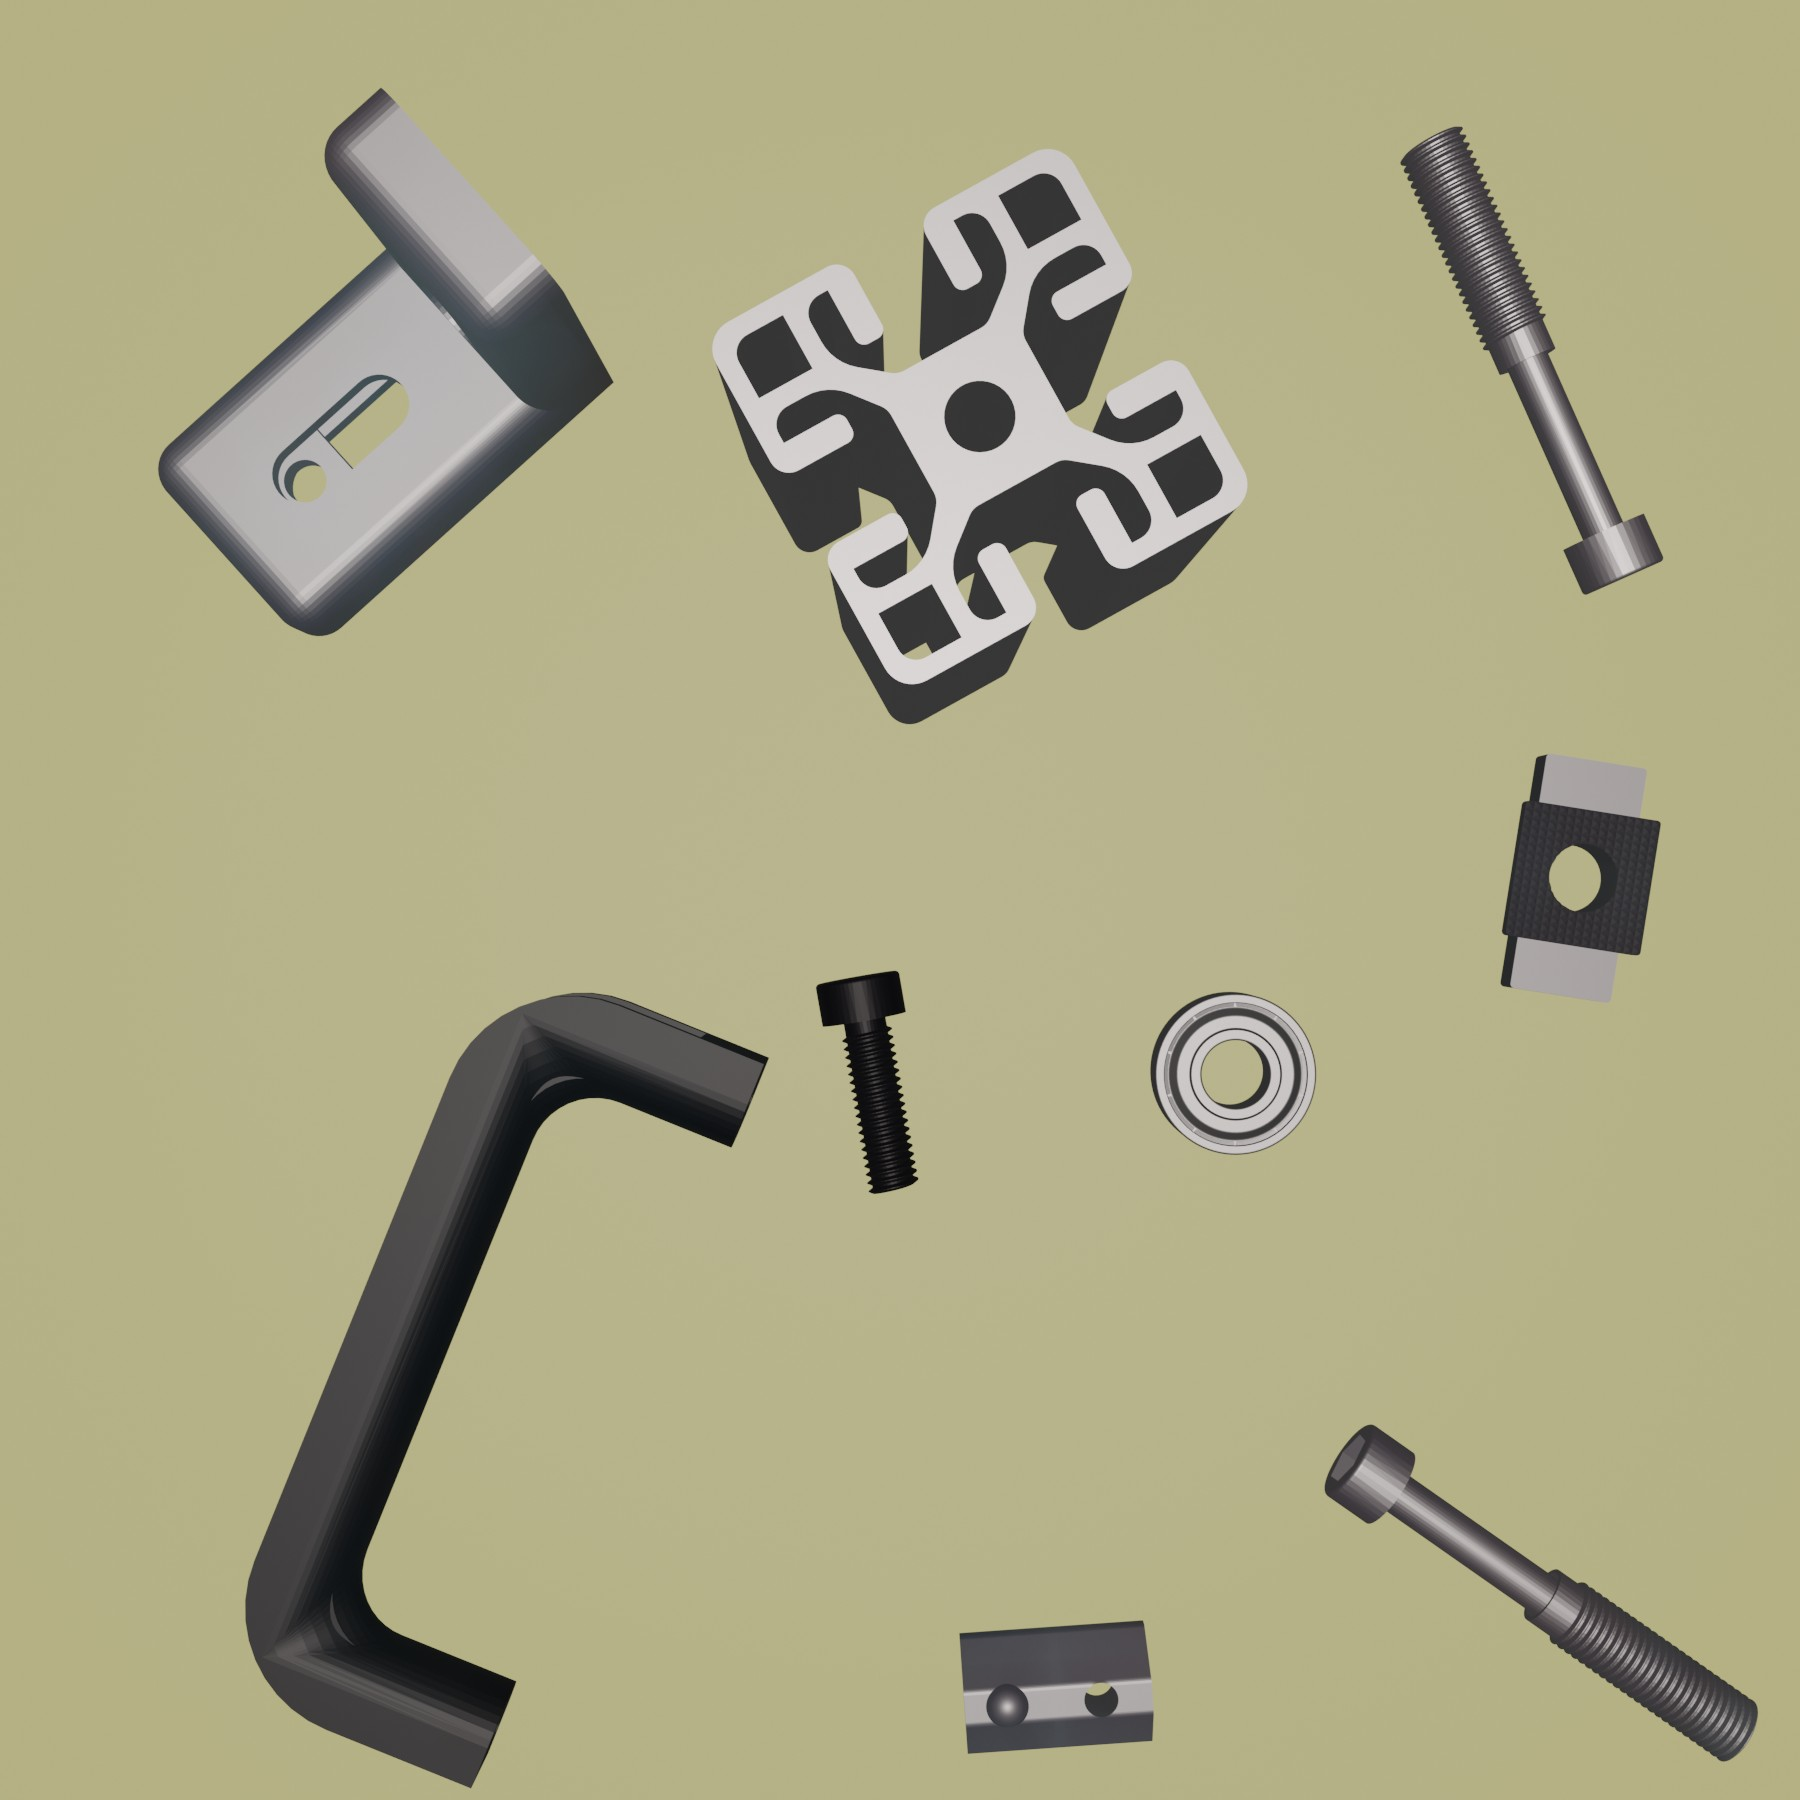Aluminium Extension: (709, 145, 1249, 725)
Ball Bearing: (1147, 989, 1319, 1159)
Multiwinkel: (158, 86, 613, 638)
Pull Handle: (242, 989, 771, 1788)
Shoulder Socket Head Cap Screw: (1320, 1419, 1759, 1764), (1401, 124, 1666, 597)
Socket Head Cap Screw: (813, 968, 920, 1197)
T Nut Square: (1498, 752, 1665, 1007)
T Spring Nut: (958, 1615, 1155, 1755)
